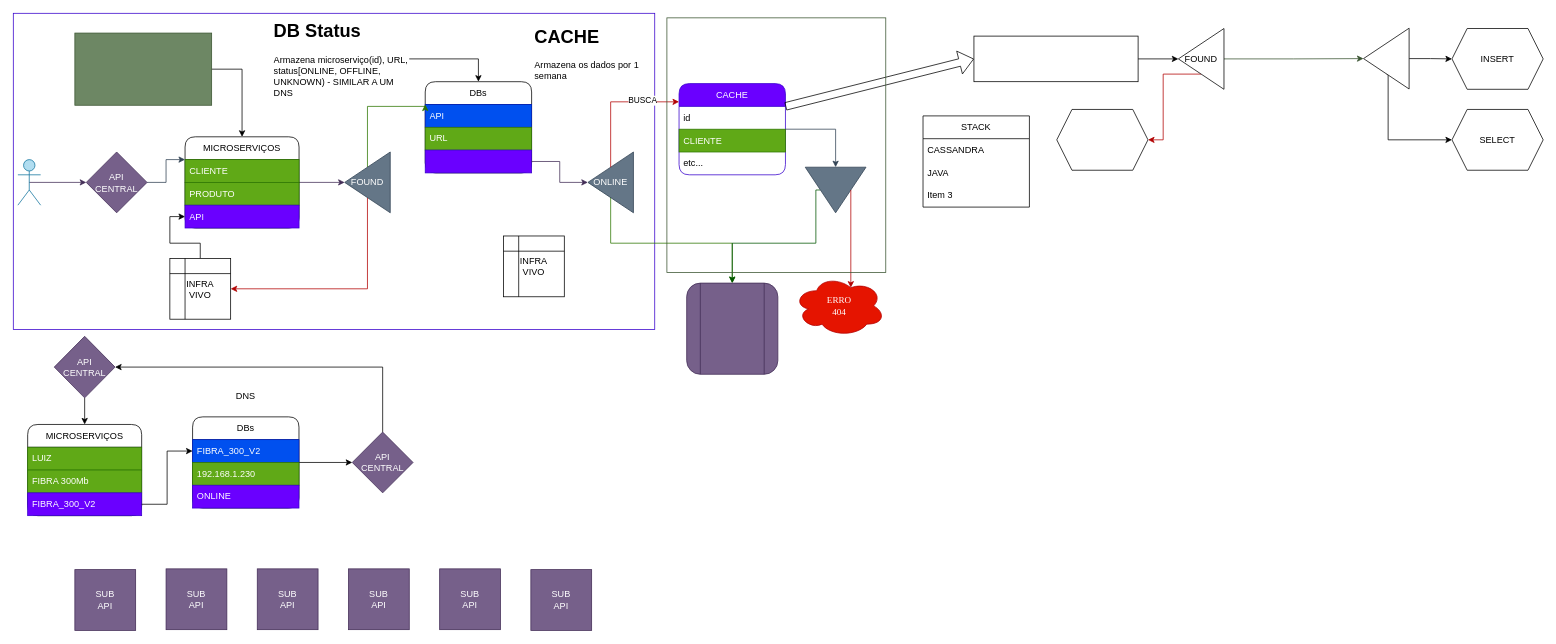
The diagram is 1556 pixels wide and 644 high, and some of its shapes have lost their labels. The centre of each missing label's shape, as x and y in pixels:
Actor: (x=29, y=182)
APP VIVO: (x=732, y=328)
CREATE TABLE: (x=1102, y=139)
DB MSs Armazena cliente, produto e link pro microserviço|API do produto: (x=143, y=68)
INCACHE: (x=835, y=189)
SEARCH INFORMATION_SCHEMA.TABLES: (x=1055, y=58)
STATUS: (x=478, y=161)
